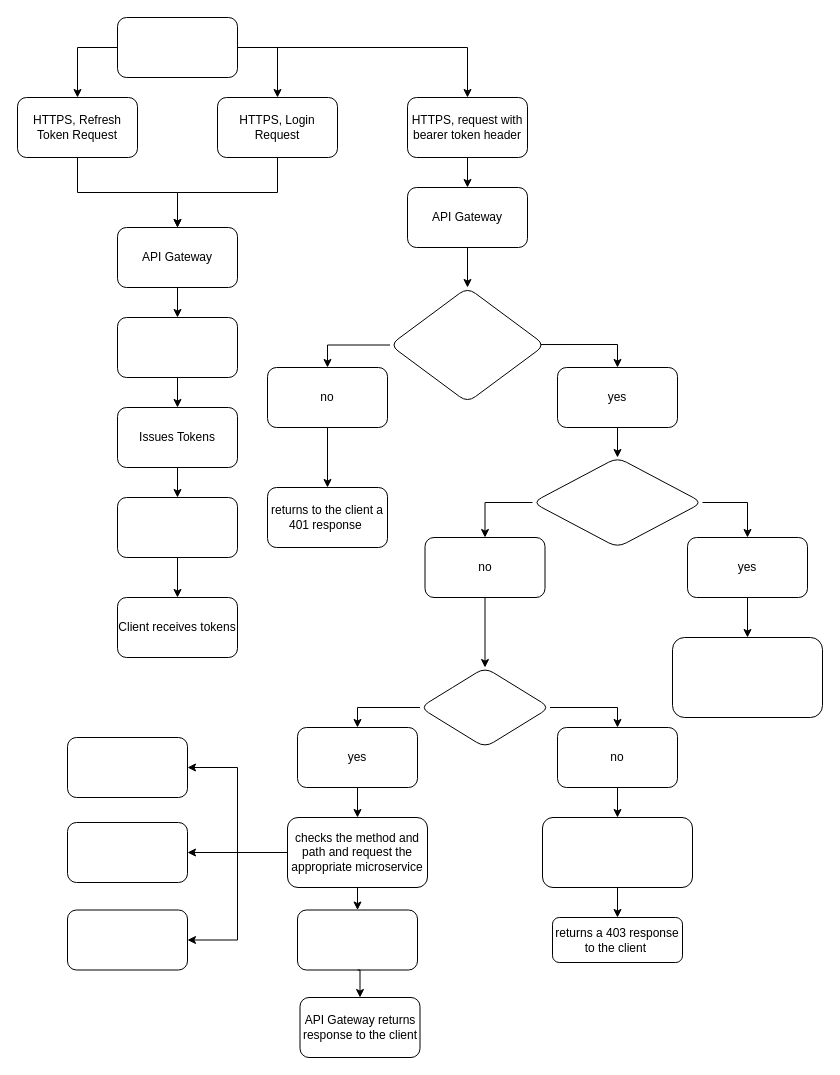
Some shapes in this 840 by 1075 pixel diagram are drawn without their labels. Each missing label, with the centre of its shape:
"API Gateway intercepts and forwards to client" belongs at pixel 177 527.
"Authentication Service" belongs at pixel 177 347.
"Blacklist client's IP address due to suspect of tampering with access tokens" belongs at pixel 617 852.
"Client (Web app, Postman)" belongs at pixel 177 47.
"Is token expired?" belongs at pixel 617 502.
"is token valid?" belongs at pixel 484 707.
"Microservice returns their response" belongs at pixel 357 939.
"returns a response that will tell the client to make a https login request" belongs at pixel 747 677.
"Token is readable" belongs at pixel 467 344.
